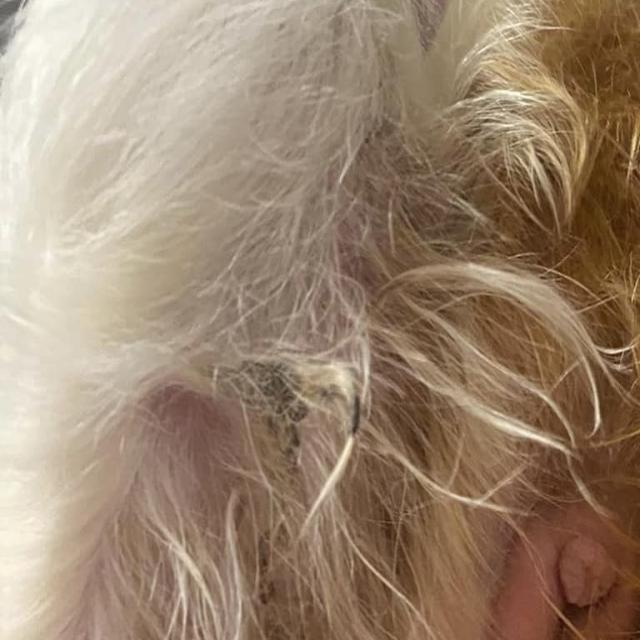mae: (514, 494, 640, 640)
mal: (547, 534, 622, 628)
